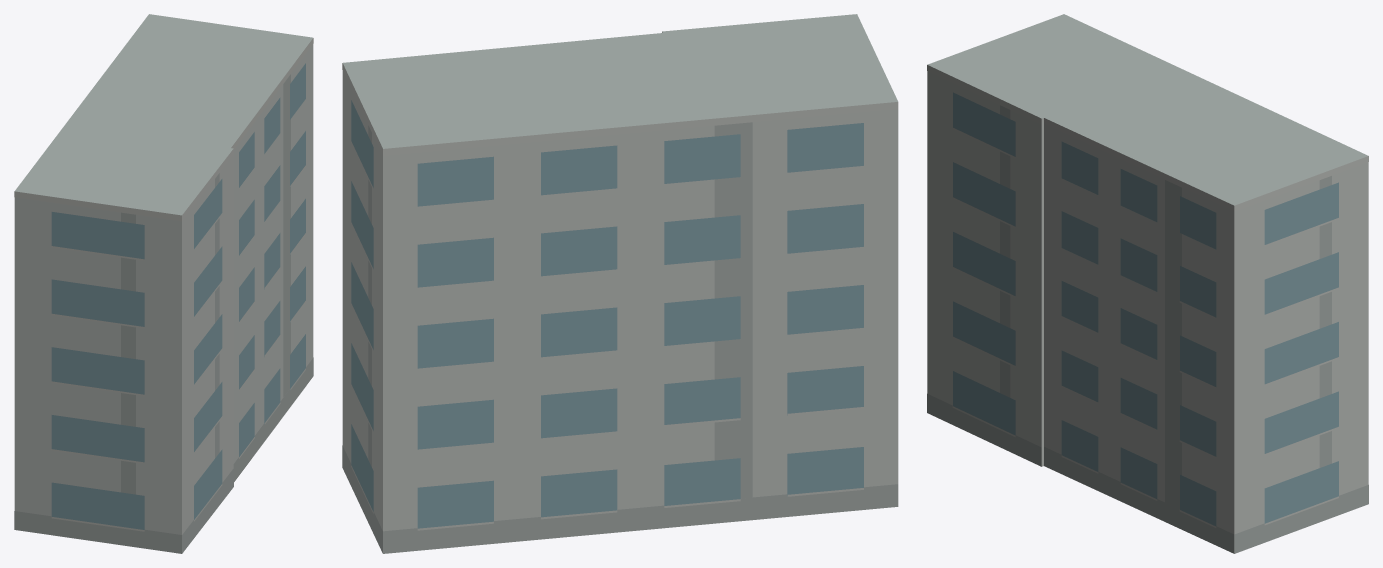
Rendered from survey-upis-32824413.glb.
3 views of the same model, side by side, from view 1: azimuth 30°, elevation 25°; view 2: azimuth 150°, elevation 25°; view 3: azimuth 270°, elevation 25° (orthographic). The views are drawn at different scales.
Visible parts, largest first — view 1: survey-upis-32824413.tmp; view 2: survey-upis-32824413.tmp; view 3: survey-upis-32824413.tmp.
Part boxes in pixels (x1,y1,x2,y2): survey-upis-32824413.tmp: (14,14,313,553); survey-upis-32824413.tmp: (342,14,898,553); survey-upis-32824413.tmp: (927,14,1368,553).
Bounding box in the file's own units: 16.3 × 13.8 × 15.87.
